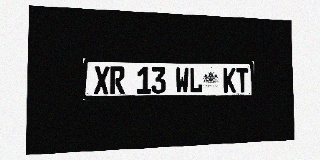1: (136, 67, 151, 94)
3: (151, 67, 165, 94)
K: (223, 68, 236, 93)
L: (189, 67, 202, 93)
R: (110, 66, 125, 94)
T: (236, 68, 248, 93)
W: (175, 67, 189, 93)
X: (94, 66, 109, 94)
